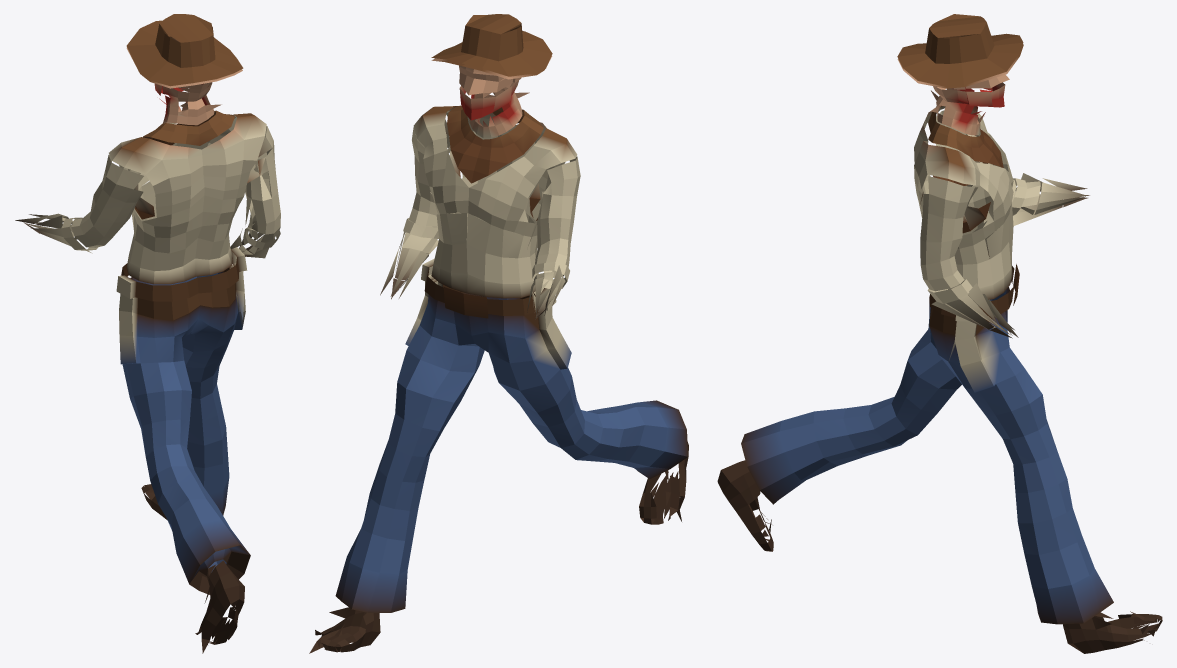
Rendered from man_0_w3.fbx.
The picture shows the model from 3 angles, left to right: view 1: azimuth 30°, elevation 25°; view 2: azimuth 150°, elevation 25°; view 3: azimuth 270°, elevation 25°; orthographic projection. The views are drawn at different scales.
Parts seen in each view (by area): view 1: cowboy; view 2: cowboy; view 3: cowboy.
Boxes of the visible parts, <box> form: cowboy: <box>15,14,280,653</box>; cowboy: <box>309,14,688,653</box>; cowboy: <box>717,14,1162,653</box>.
Size of the model in its own units: 0.3603 by 0.9727 by 0.6585.
